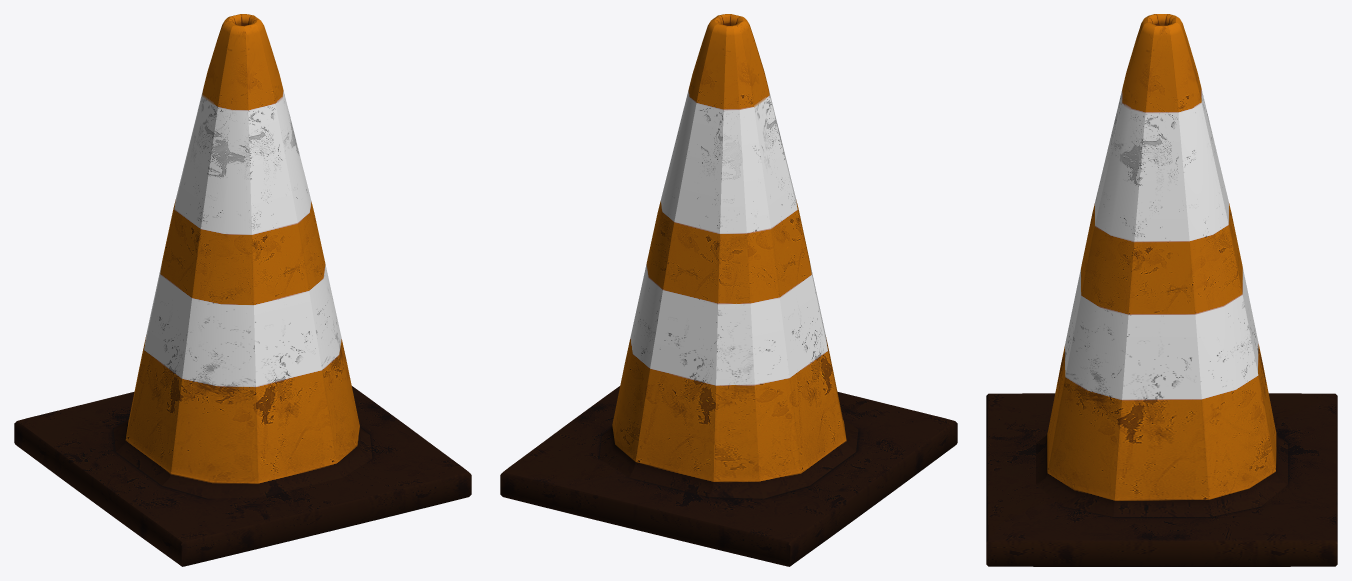
The model's file is Parking_Cone.fbx.
3 renders of one model, left to right at view 1: azimuth 30°, elevation 25°; view 2: azimuth 150°, elevation 25°; view 3: azimuth 270°, elevation 25°, orthographic. The views are drawn at different scales.
Visible parts, largest first — view 1: Parking_cone; view 2: Parking_cone; view 3: Parking_cone.
Part boxes in pixels (left/top/right/bottom): Parking_cone: left=14, top=14, right=471, bottom=566; Parking_cone: left=500, top=14, right=957, bottom=566; Parking_cone: left=986, top=14, right=1337, bottom=566.
Size of the model in its own units: 37.9 by 56.44 by 37.9.
1 material, 1 textured.
